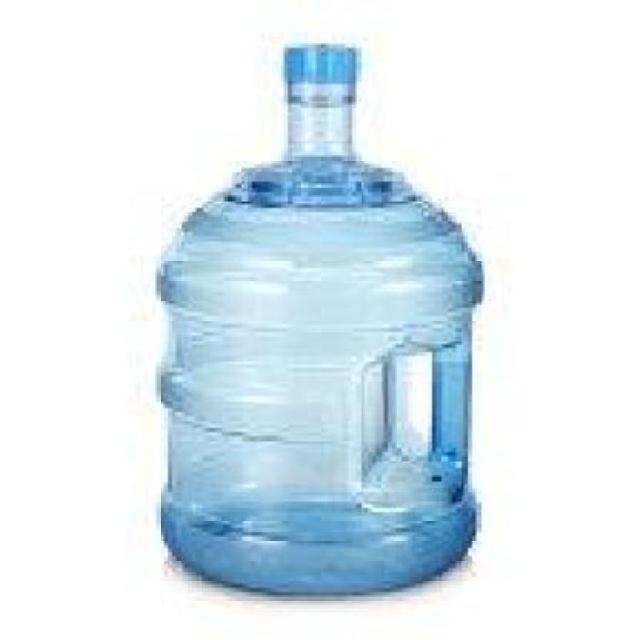coolerbottle: (140, 37, 499, 606)
